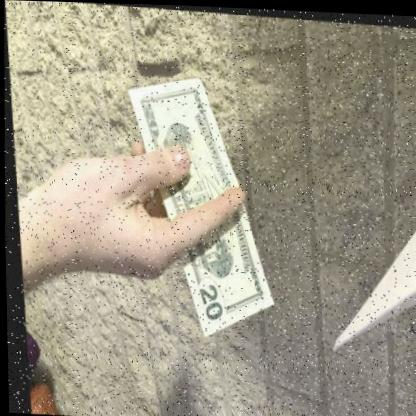dollar_back: (124, 75, 269, 335)
